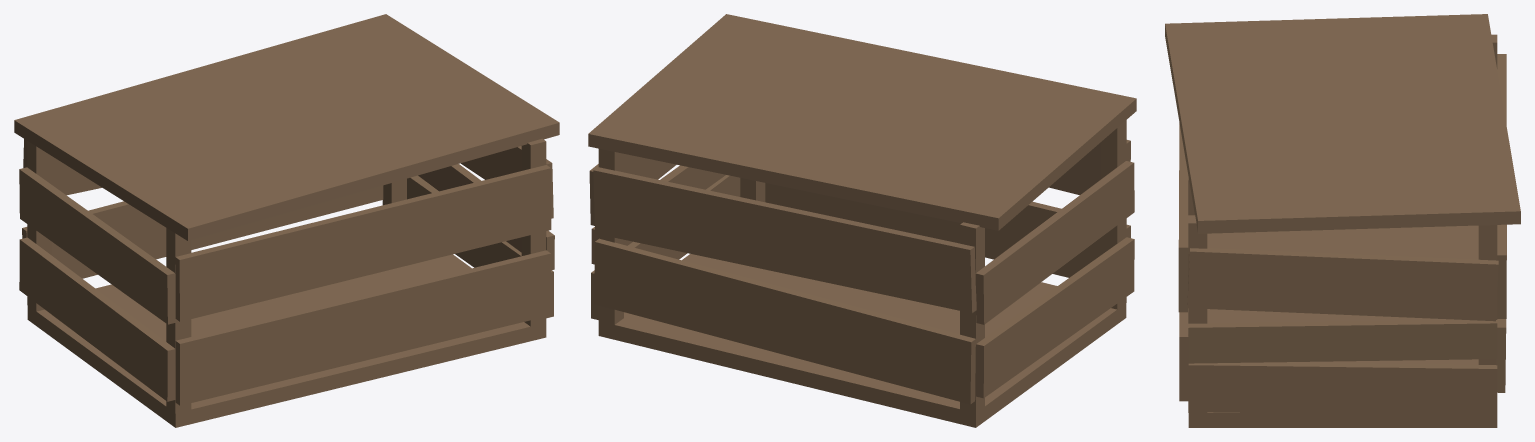
File: Wooden crate.2.fbx
The picture shows the model from 3 angles, left to right: view 1: azimuth 30°, elevation 25°; view 2: azimuth 150°, elevation 25°; view 3: azimuth 270°, elevation 25°; orthographic projection. The views are drawn at different scales.
Parts seen in each view (by area): view 1: Wooden crate.2; view 2: Wooden crate.2; view 3: Wooden crate.2.
Part boxes in pixels (left/top/right/bottom): Wooden crate.2: left=14, top=14, right=559, bottom=427; Wooden crate.2: left=588, top=14, right=1136, bottom=427; Wooden crate.2: left=1165, top=14, right=1520, bottom=427.
Size of the model in its own units: 535 by 389 by 260.
